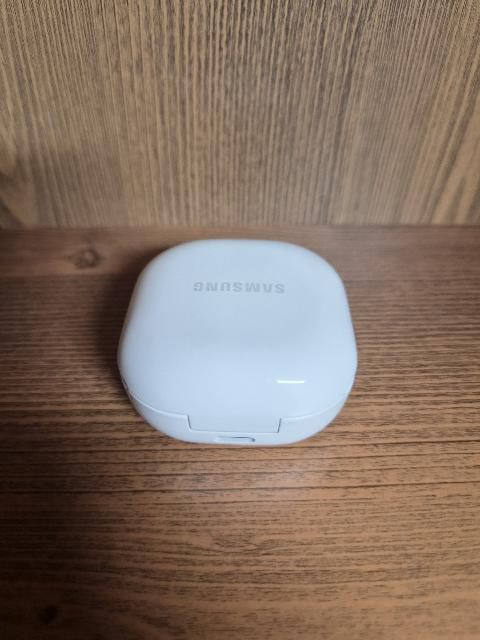earphone_case: (117, 239, 358, 445)
